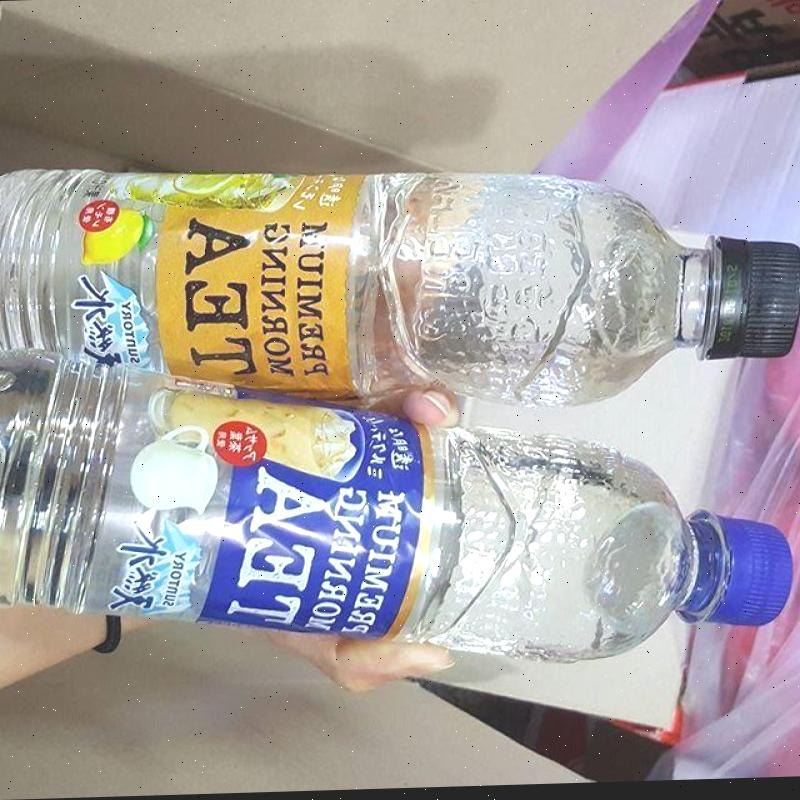botella: (0, 333, 796, 678), (0, 153, 796, 423)
